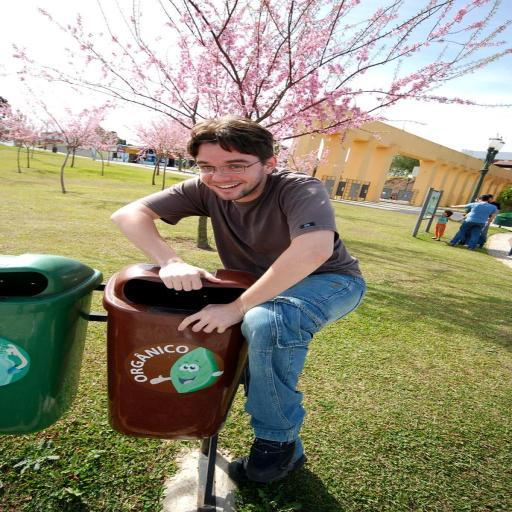trash-can: (112, 259, 259, 455)
